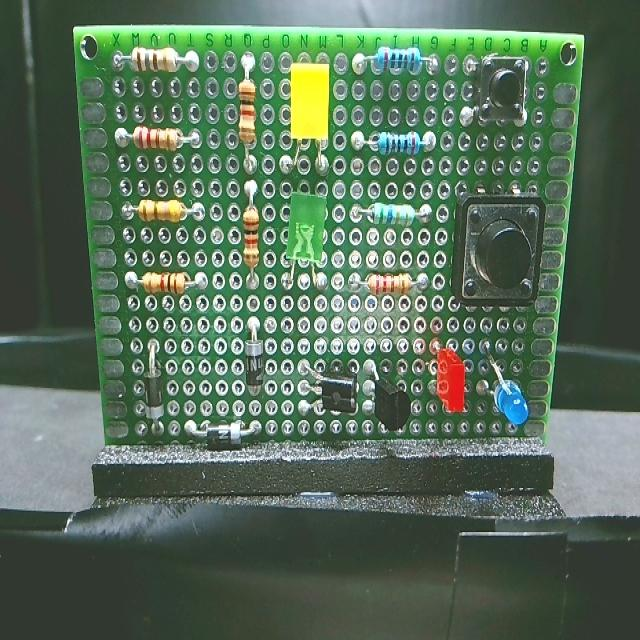diode: (192, 419, 256, 455), (240, 330, 272, 399), (142, 352, 168, 428)
led: (283, 57, 338, 150), (282, 184, 329, 279), (482, 350, 527, 437), (430, 339, 471, 420)
resistor: (126, 44, 189, 85), (369, 124, 429, 165), (365, 192, 421, 234), (128, 190, 187, 226), (368, 47, 430, 81), (367, 264, 415, 306), (132, 262, 188, 297), (233, 69, 260, 141), (131, 125, 181, 159), (242, 202, 262, 283)
switch: (448, 185, 548, 310), (474, 50, 534, 122)
transistor: (305, 360, 357, 427), (364, 366, 412, 435)
